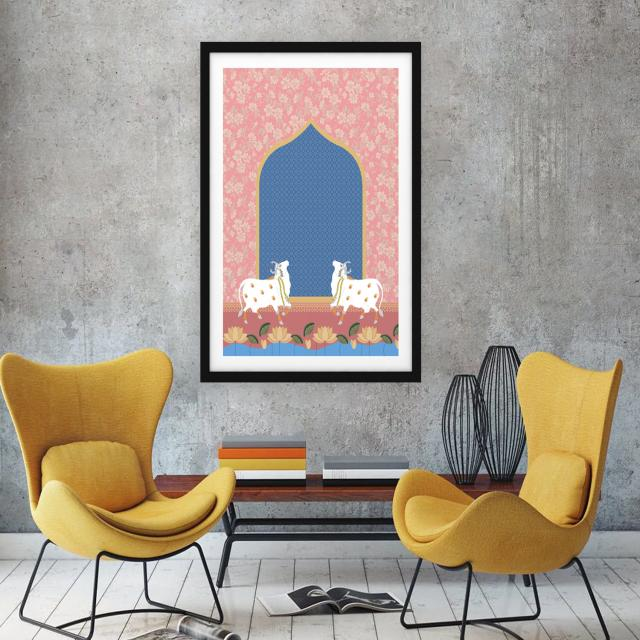painting: (200, 40, 421, 382)
